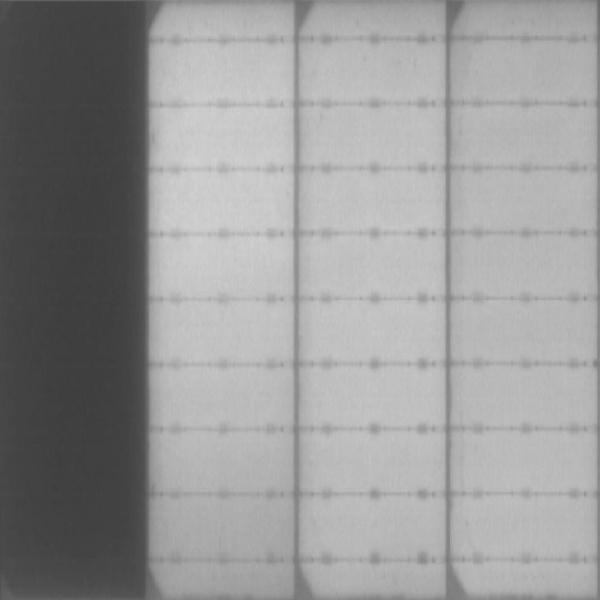no_electricity: (1, 1, 145, 594)
